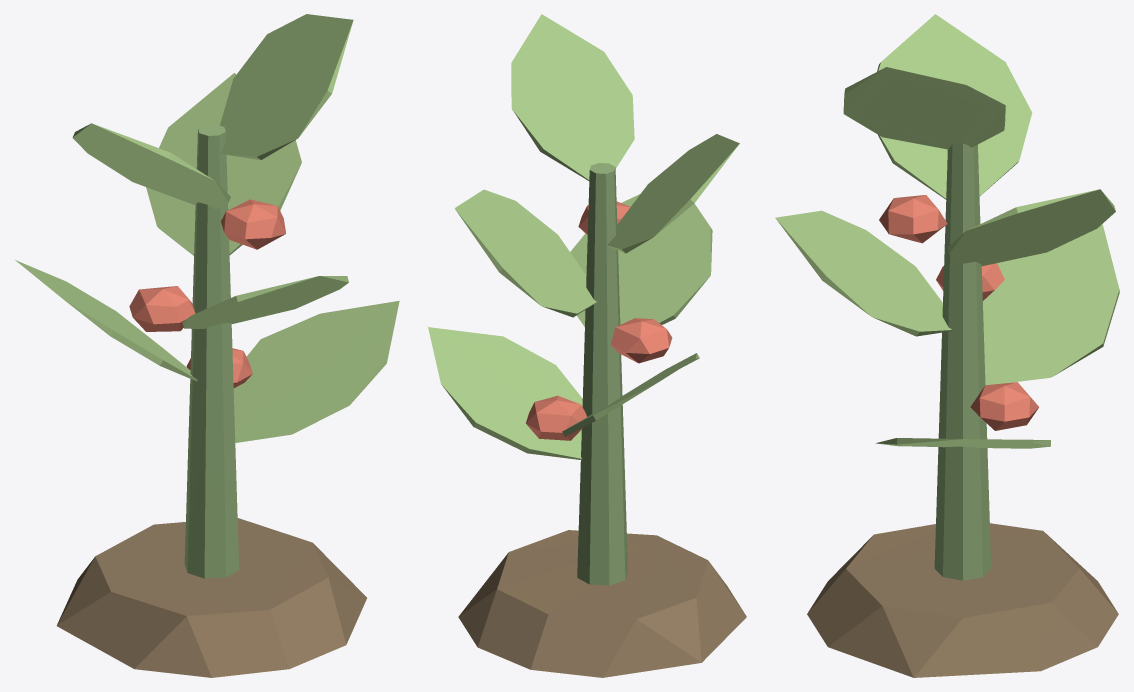
The model's file is 33-Agricultura_cultivo_lista.glb.
3 renders of one model, left to right at view 1: azimuth 30°, elevation 25°; view 2: azimuth 150°, elevation 25°; view 3: azimuth 270°, elevation 25°, orthographic. The views are drawn at different scales.
Visible parts, largest first — view 1: SM_Cultivo_M_Cultivo_Hoja, SM_Cultivo_M_Cultivo_Tierra, SM_Cultivo_M_Cultivo_Tallo, SM_Cultivo_M_Cultivo_Fruto; view 2: SM_Cultivo_M_Cultivo_Hoja, SM_Cultivo_M_Cultivo_Tierra, SM_Cultivo_M_Cultivo_Tallo, SM_Cultivo_M_Cultivo_Fruto; view 3: SM_Cultivo_M_Cultivo_Hoja, SM_Cultivo_M_Cultivo_Tierra, SM_Cultivo_M_Cultivo_Tallo, SM_Cultivo_M_Cultivo_Fruto.
Part boxes in pixels (<box>): SM_Cultivo_M_Cultivo_Hoja: <box>15,14,399,443</box>; SM_Cultivo_M_Cultivo_Tierra: <box>56,518,366,677</box>; SM_Cultivo_M_Cultivo_Tallo: <box>184,124,239,578</box>; SM_Cultivo_M_Cultivo_Fruto: <box>129,199,286,387</box>; SM_Cultivo_M_Cultivo_Hoja: <box>428,14,739,460</box>; SM_Cultivo_M_Cultivo_Tierra: <box>458,530,746,677</box>; SM_Cultivo_M_Cultivo_Tallo: <box>577,163,627,585</box>; SM_Cultivo_M_Cultivo_Fruto: <box>526,201,672,440</box>; SM_Cultivo_M_Cultivo_Hoja: <box>775,14,1119,448</box>; SM_Cultivo_M_Cultivo_Tierra: <box>807,523,1118,677</box>; SM_Cultivo_M_Cultivo_Tallo: <box>934,143,991,580</box>; SM_Cultivo_M_Cultivo_Fruto: <box>879,195,1038,430</box>.
Size of the model in its own units: 0.3352 by 0.5923 by 0.3094.
